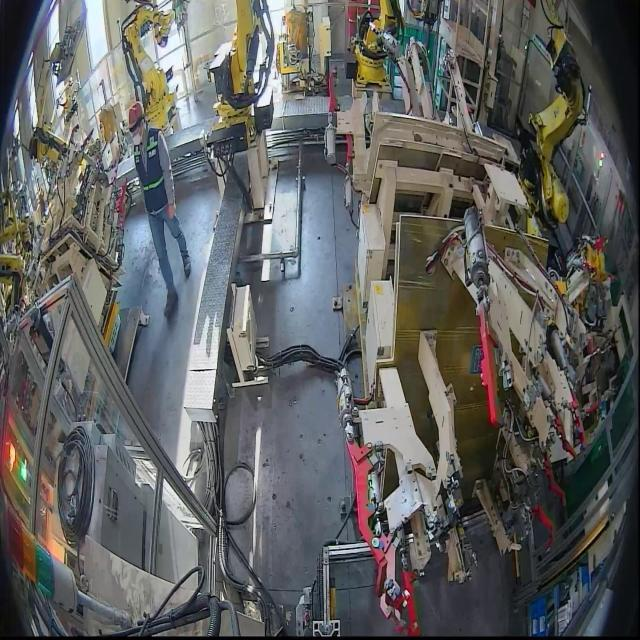Person: (128, 101, 192, 320)
